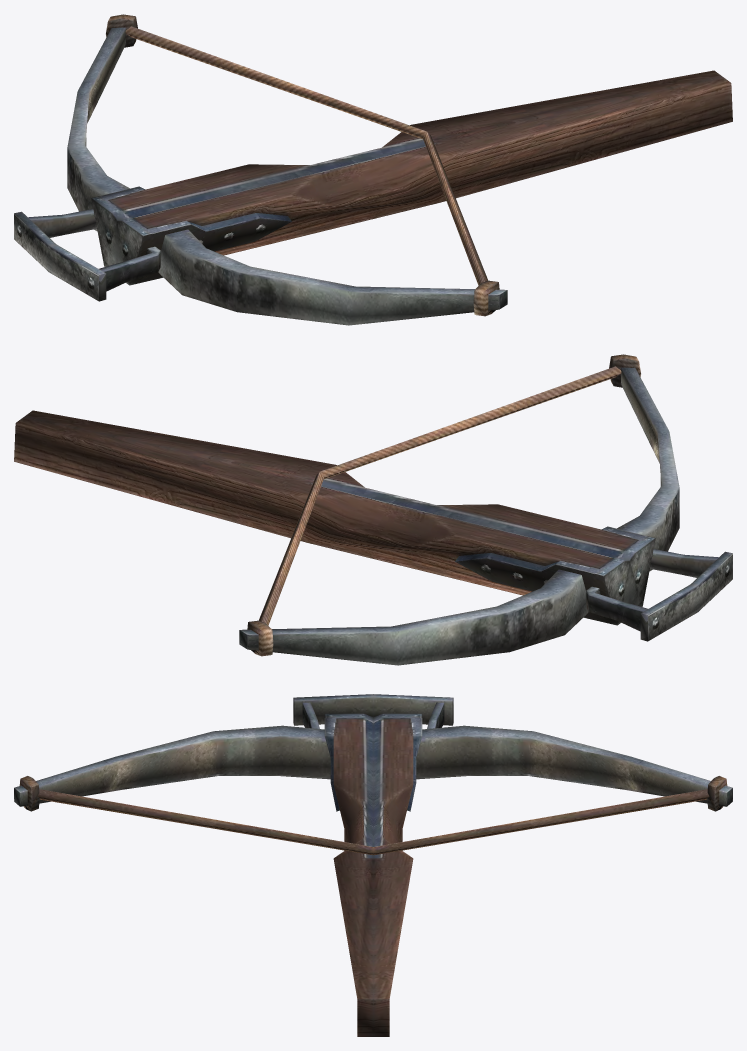
The model's file is KM_ITRW_CROSSBOW_05.glb.
3 renders of one model, top to bottom at view 1: azimuth 30°, elevation 25°; view 2: azimuth 150°, elevation 25°; view 3: azimuth 270°, elevation 25°, orthographic. The views are drawn at different scales.
Parts seen in each view (by area): view 1: KM_ITRW_CROSSBOW_05; view 2: KM_ITRW_CROSSBOW_05; view 3: KM_ITRW_CROSSBOW_05.
Boxes of the visible parts, box(x1,y1,x2,y2) form: KM_ITRW_CROSSBOW_05: box(14, 14, 732, 325); KM_ITRW_CROSSBOW_05: box(14, 354, 732, 665); KM_ITRW_CROSSBOW_05: box(14, 694, 732, 1036).
Bounding box in the file's own units: 0.6994 × 0.0802 × 0.684.
1 material, 1 textured.
